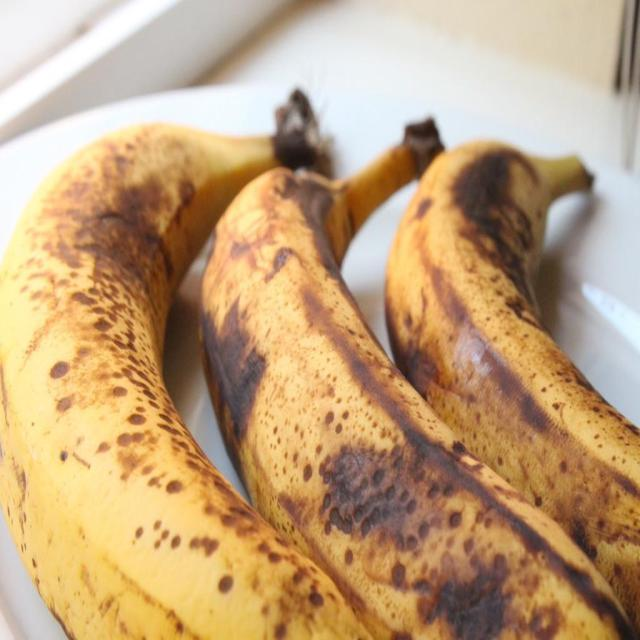banana: (199, 168, 637, 640), (0, 124, 351, 640), (382, 141, 640, 638)
